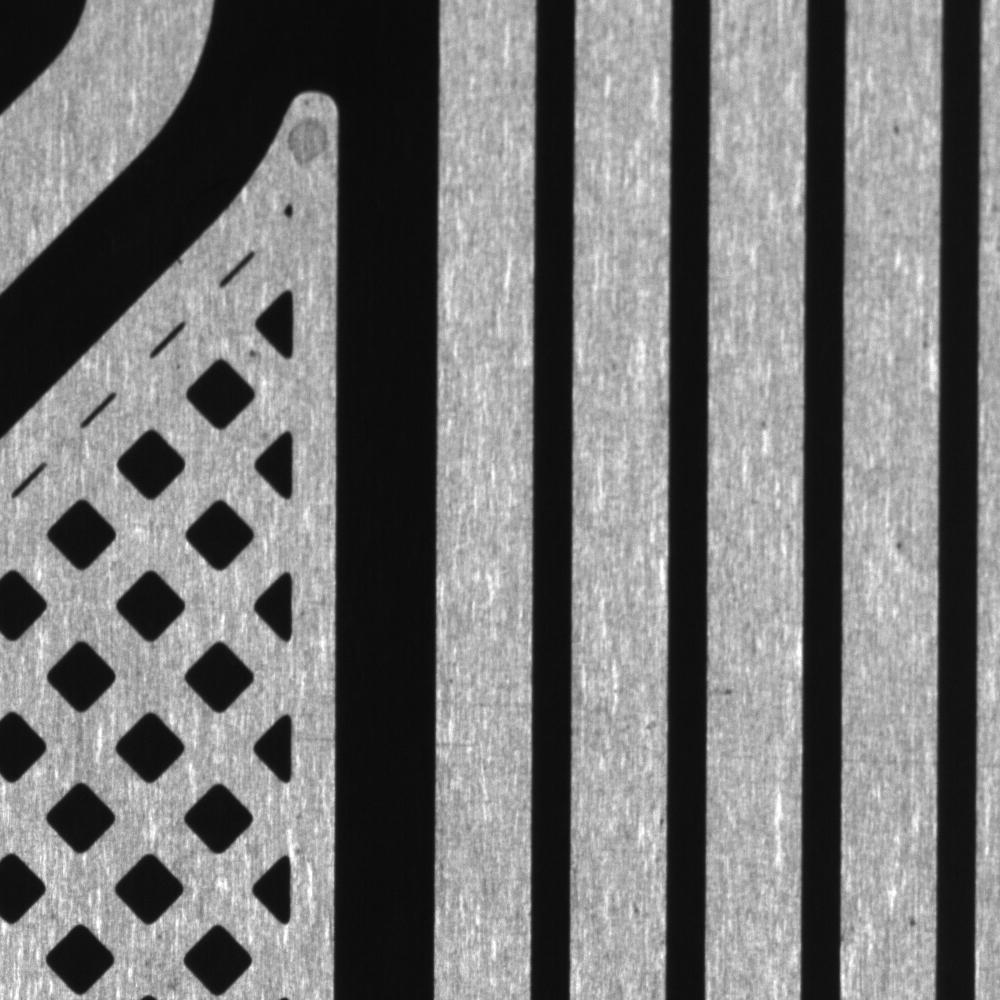Discolor: (283, 100, 339, 178)
Etching: (881, 114, 915, 144), (748, 407, 779, 437), (716, 677, 744, 705), (914, 326, 937, 358)
Pinhole: (883, 534, 912, 560), (901, 904, 925, 935)
Scar: (844, 742, 937, 774), (719, 744, 802, 771), (444, 695, 530, 719), (438, 733, 489, 752)
